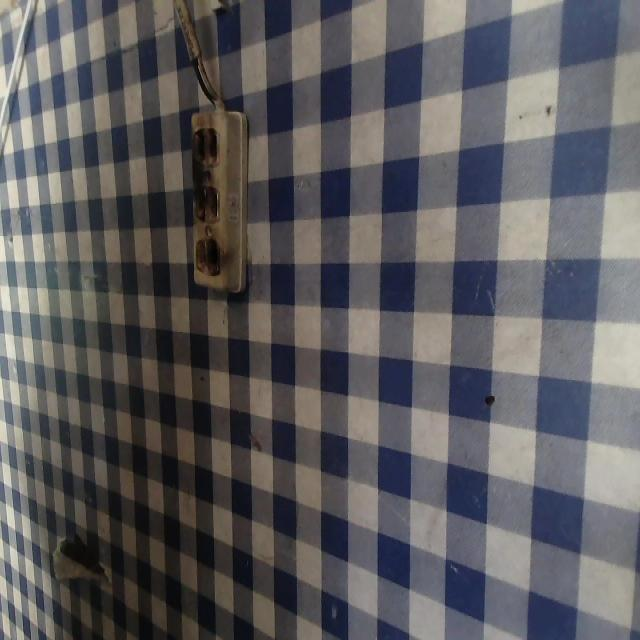-: (176, 168, 228, 229), (180, 120, 231, 180), (183, 225, 227, 288)
